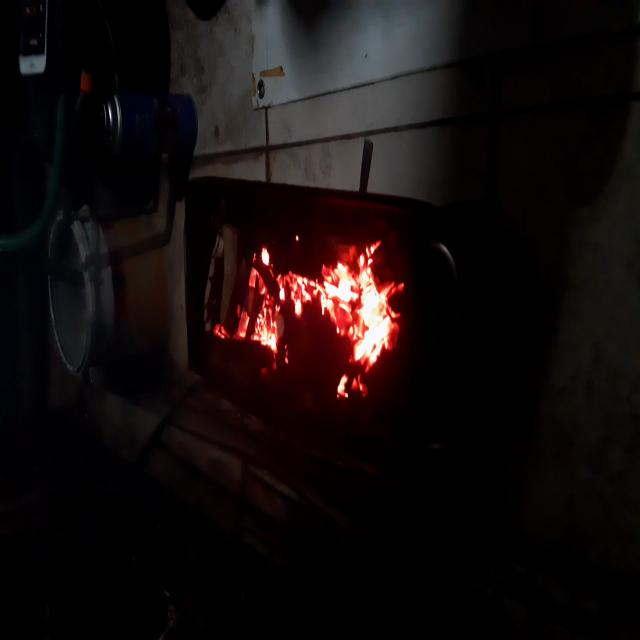Fire: (227, 226, 406, 406)
